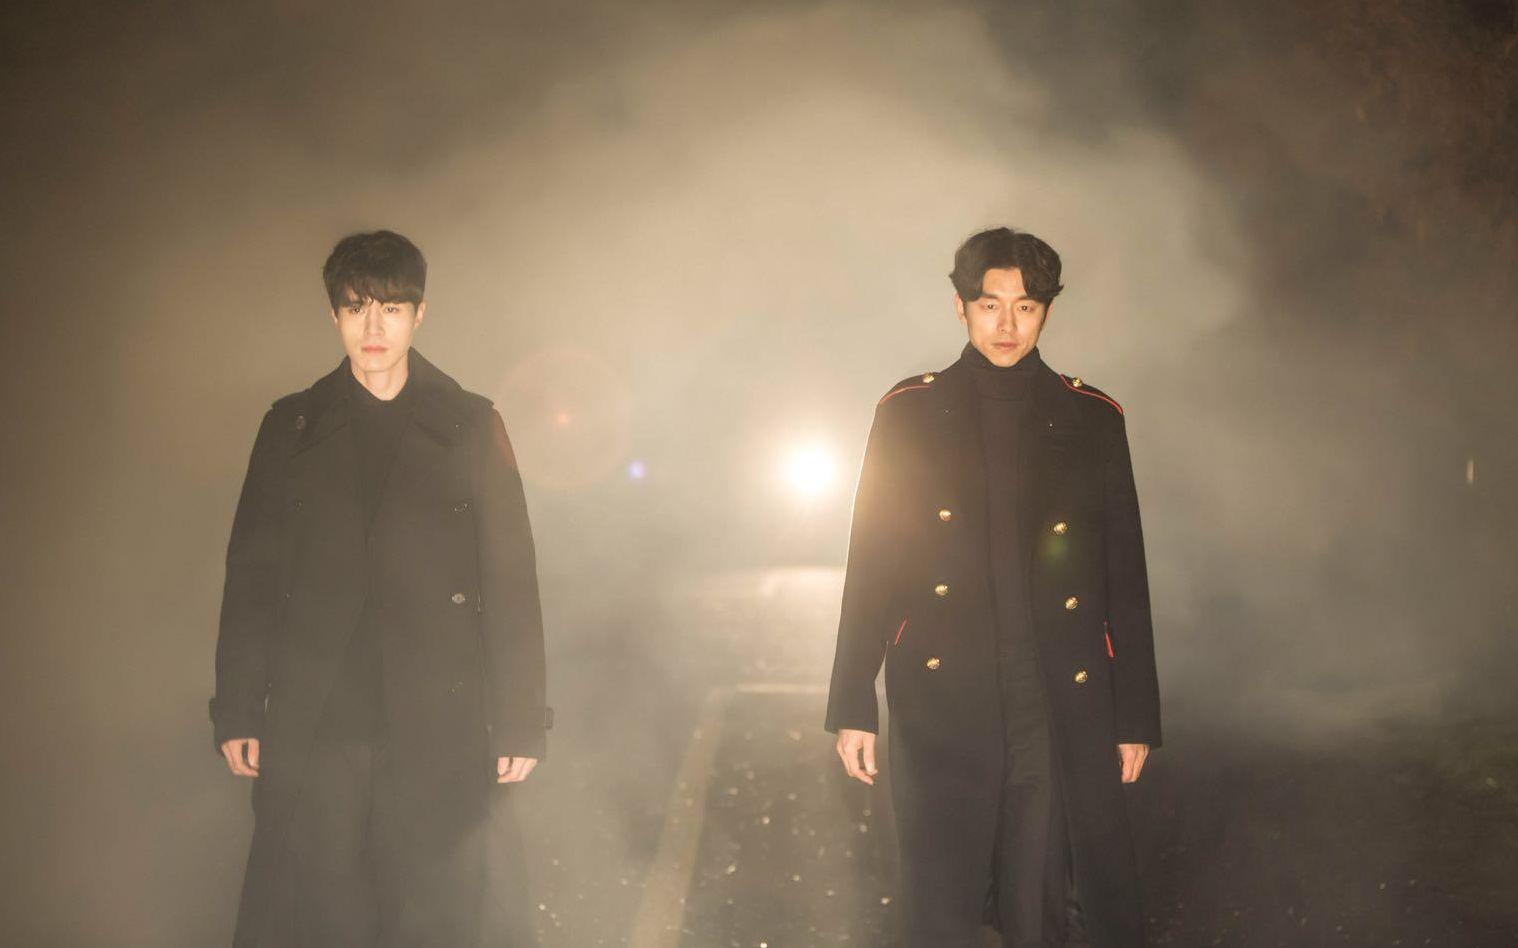up: (216, 224, 557, 948), (820, 225, 1158, 948)
